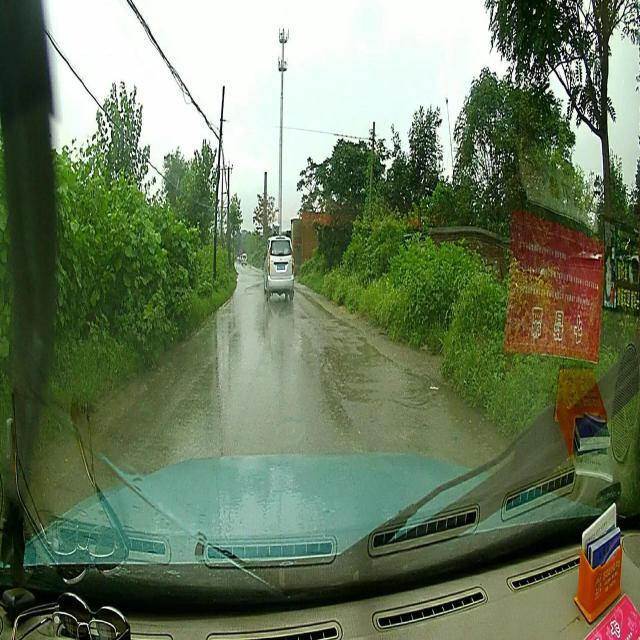car: (263, 235, 295, 308), (240, 254, 246, 264)
